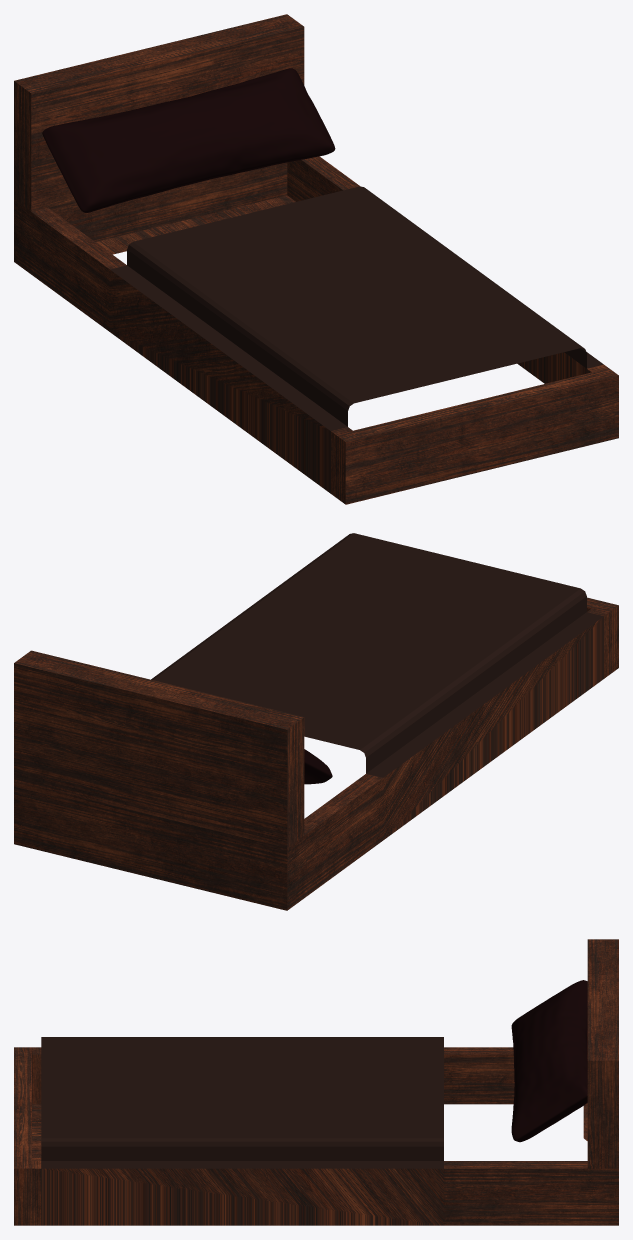
Rendered from bed_1.glb.
The picture shows the model from 3 angles, top to bottom: view 1: azimuth 30°, elevation 25°; view 2: azimuth 150°, elevation 25°; view 3: azimuth 270°, elevation 25°; orthographic projection. The views are drawn at different scales.
Visible parts, largest first — view 1: Object_16, Object_19; view 2: Object_16, Object_19; view 3: Object_16, Object_19.
Part boxes in pixels (x1,y1,x2,y2): Object_16: [14, 14, 618, 504]; Object_19: [42, 68, 335, 212]; Object_16: [14, 533, 618, 910]; Object_19: [304, 749, 332, 784]; Object_16: [14, 939, 618, 1225]; Object_19: [511, 980, 587, 1142].
Bounding box in the file's own units: 3.42 × 2.16 × 7.19.
Materials: 2 (1 with a texture image).
